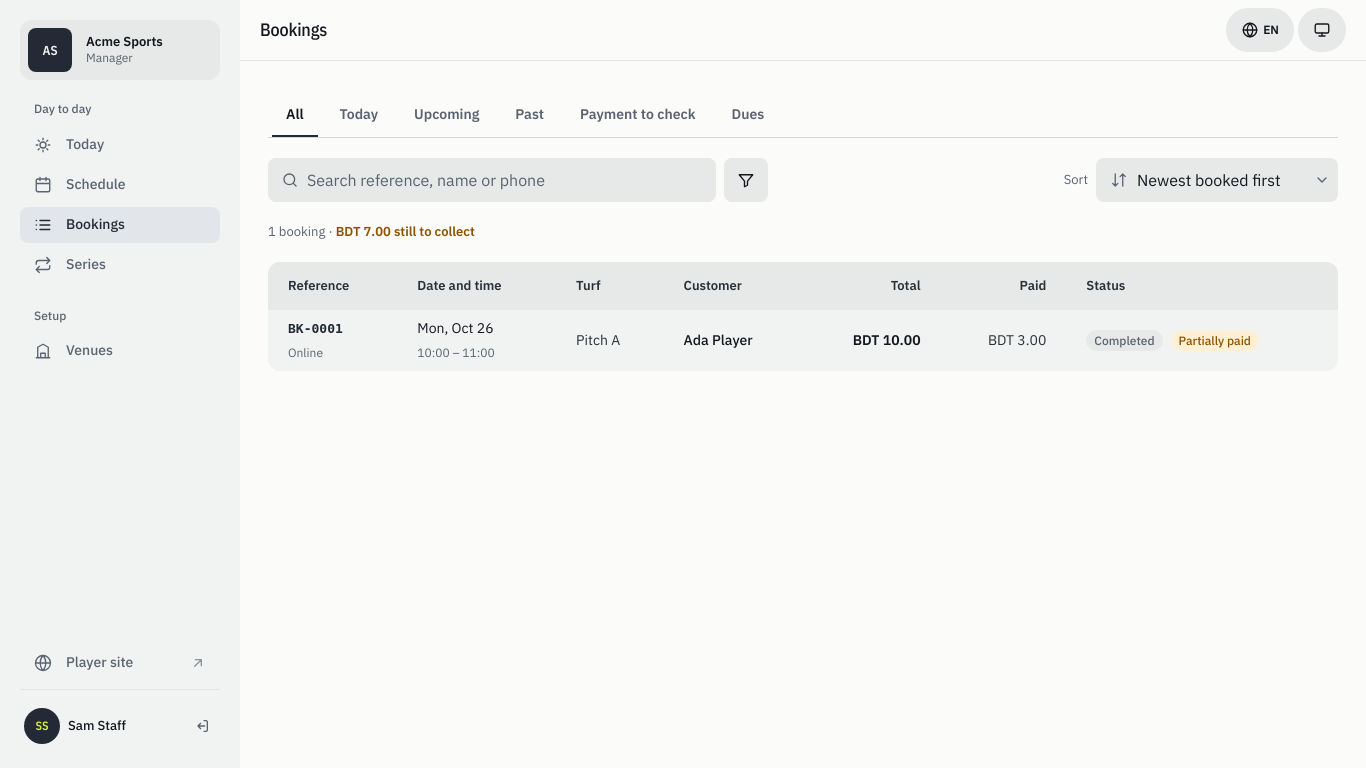
it: Bookings page › the Dues tab lists what is left to collect with the sum and a Record cash button
The width and height of the screenshot is (1366, 768).
Check: the link "BK-0001" is shown, box [288,321,343,336]
Click the tab "Dues" at {"x": 748, "y": 115}, box [718,93,778,137]
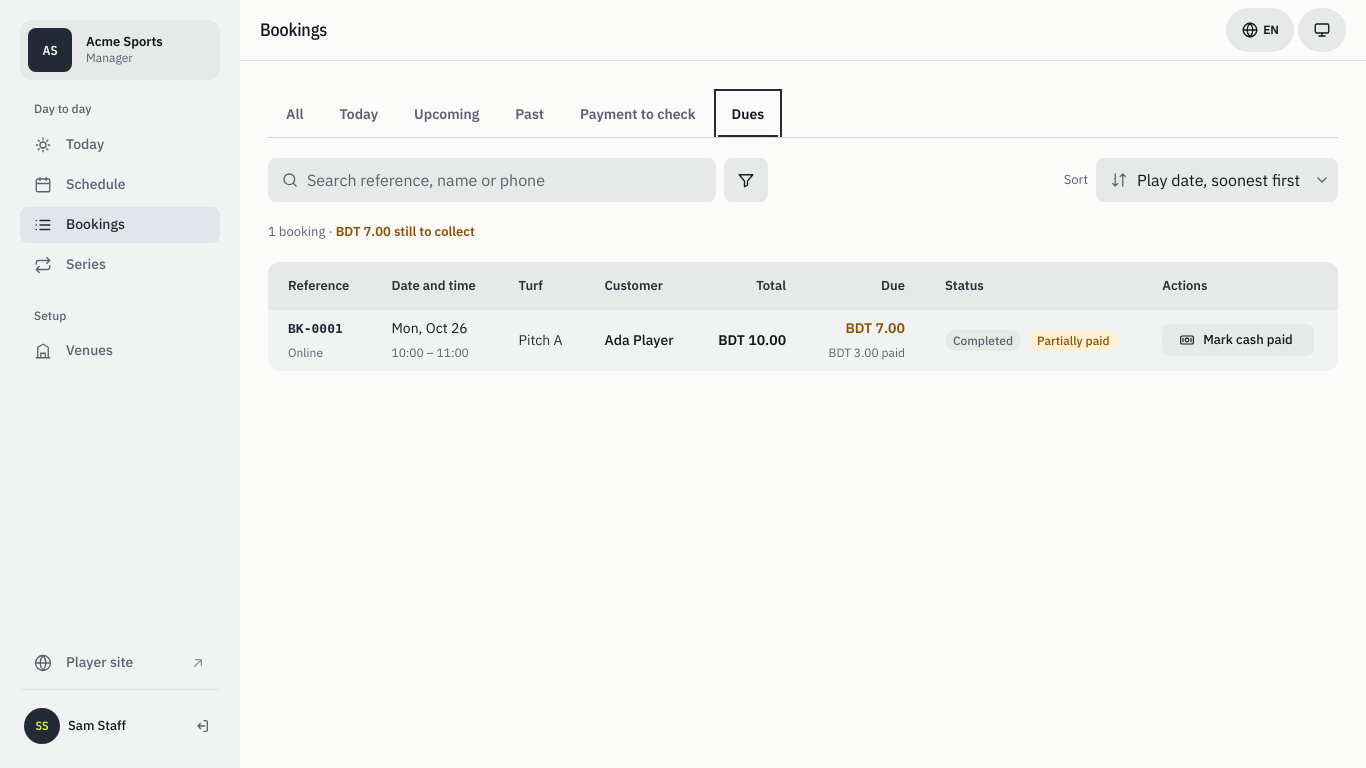
Check: the column heading "Due" is shown, box [806,262,925,310]
Check: the text "BDT 3.00 paid" is shown, box [826,344,905,363]
Check: the button "Mark cash paid" is shown, box [1162,324,1314,356]
